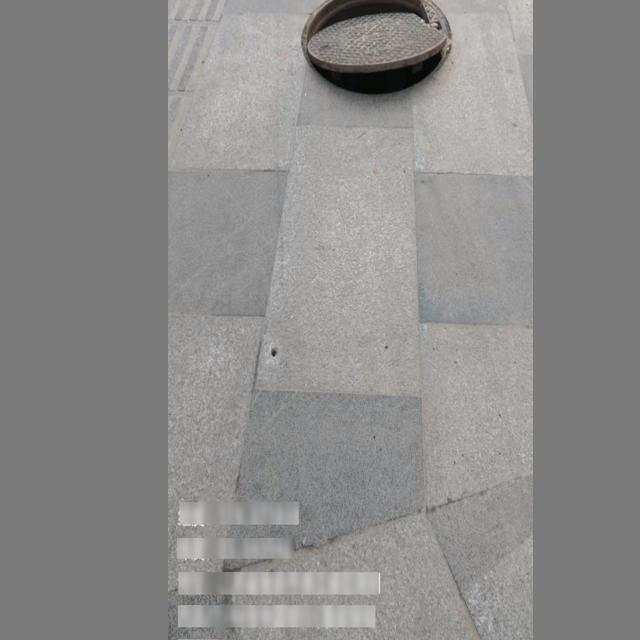uncovered: (301, 0, 453, 103)
